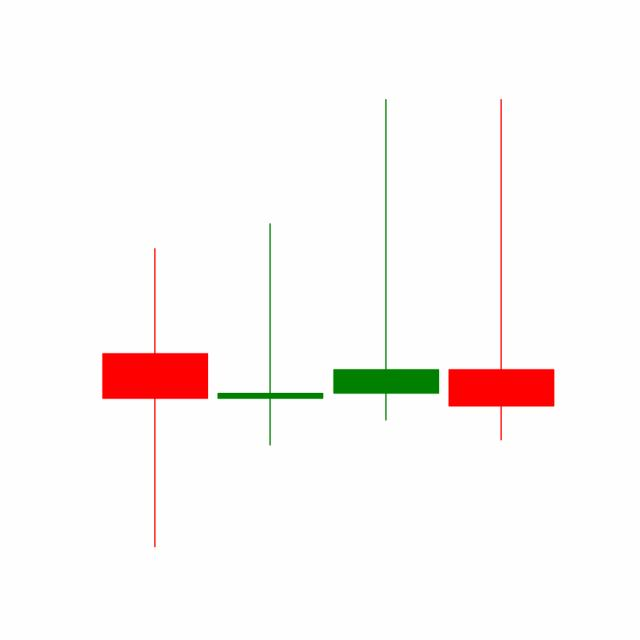Gravestone Doji: (328, 96, 444, 424)
